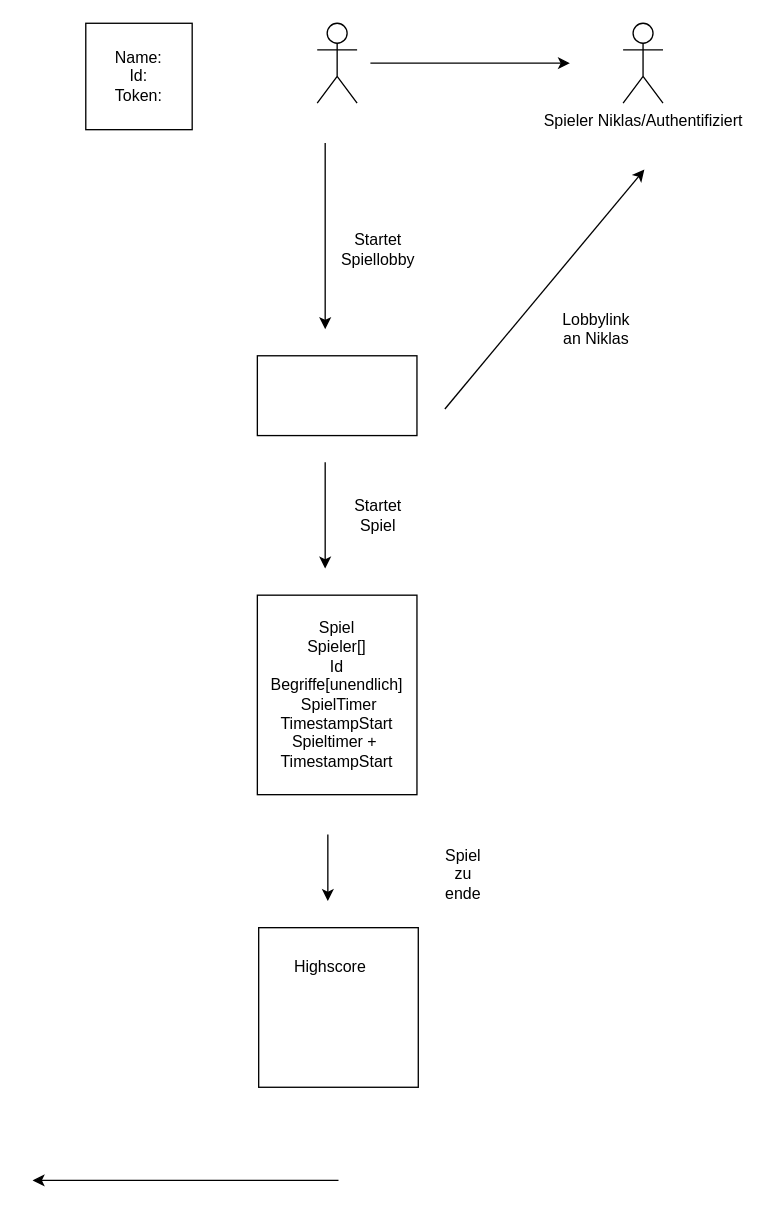
The diagram is 765 pixels wide and 1214 high, and some of its shapes have lost their labels. The shapes that lost their labels are listed below. From the top down, each one's centre as x and y in pixels, then its label:
At pixel 336 62: "Spieler Jannik/Authentifiziert".
At pixel 336 395: "Spiellobby Admin Id -> Link MaxAnzahl".
